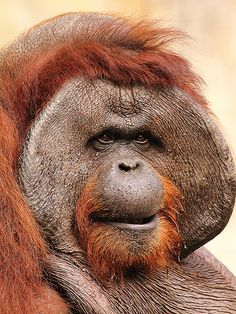Orangutan: (8, 34, 231, 303)
